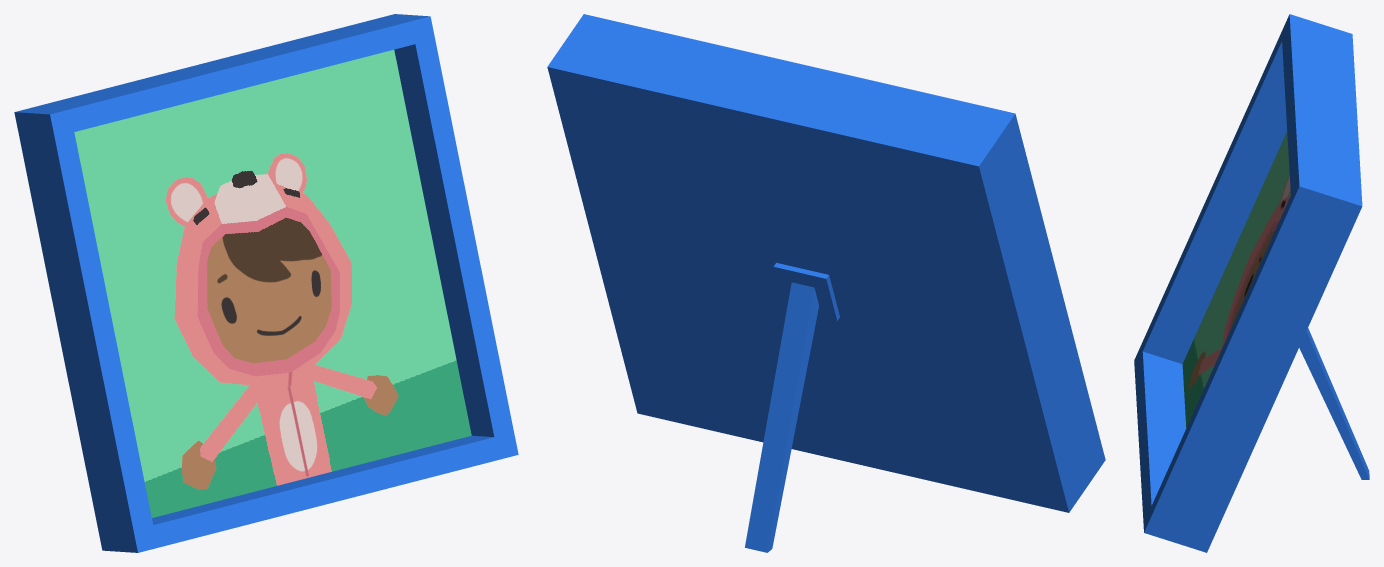
File: picframe_1.fbx
3 views of the same model, side by side, from view 1: azimuth 30°, elevation 25°; view 2: azimuth 150°, elevation 25°; view 3: azimuth 270°, elevation 25° (orthographic). The views are drawn at different scales.
Visible parts, largest first — view 1: Cube; view 2: Cube; view 3: Cube.
Boxes of the visible parts, x1,y1,x2,y2 form: Cube: [14, 14, 518, 552]; Cube: [547, 14, 1105, 552]; Cube: [1134, 14, 1369, 552].
Bounding box in the file's own units: 15.76 × 15.84 × 9.
